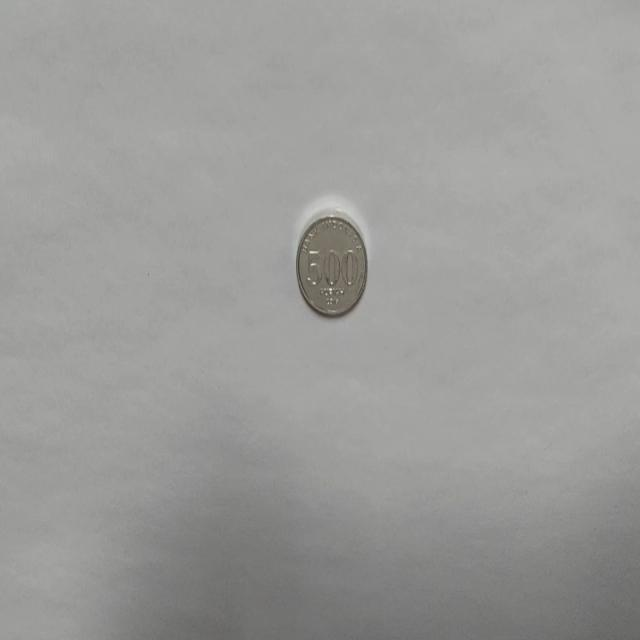lima ratus rupiah: (294, 210, 368, 318)
